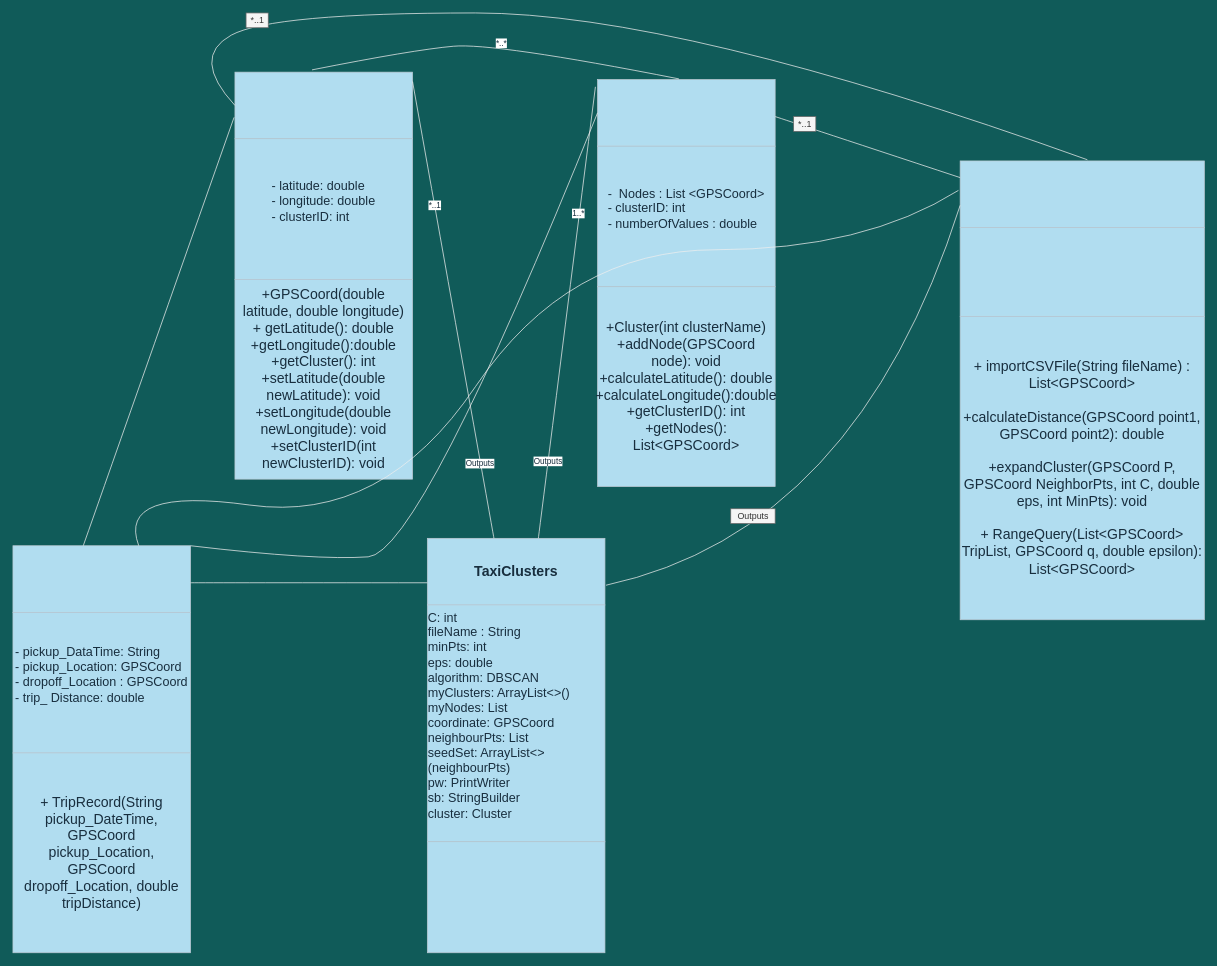
Image size: 1217x966. Some labels were removed from this diagram. Here are the shapes that lost their labels. From the top down, the centre of each, then its label:
At (323,105): "GPSCoord".
At (686,112): "Cluster".
At (1081,194): "DBSCAN".
At (1081,271): "- minPts: int - eps : double".
At (101,578): "TripRecord".
At (516,897): "+ public static void main(String[] args)".
